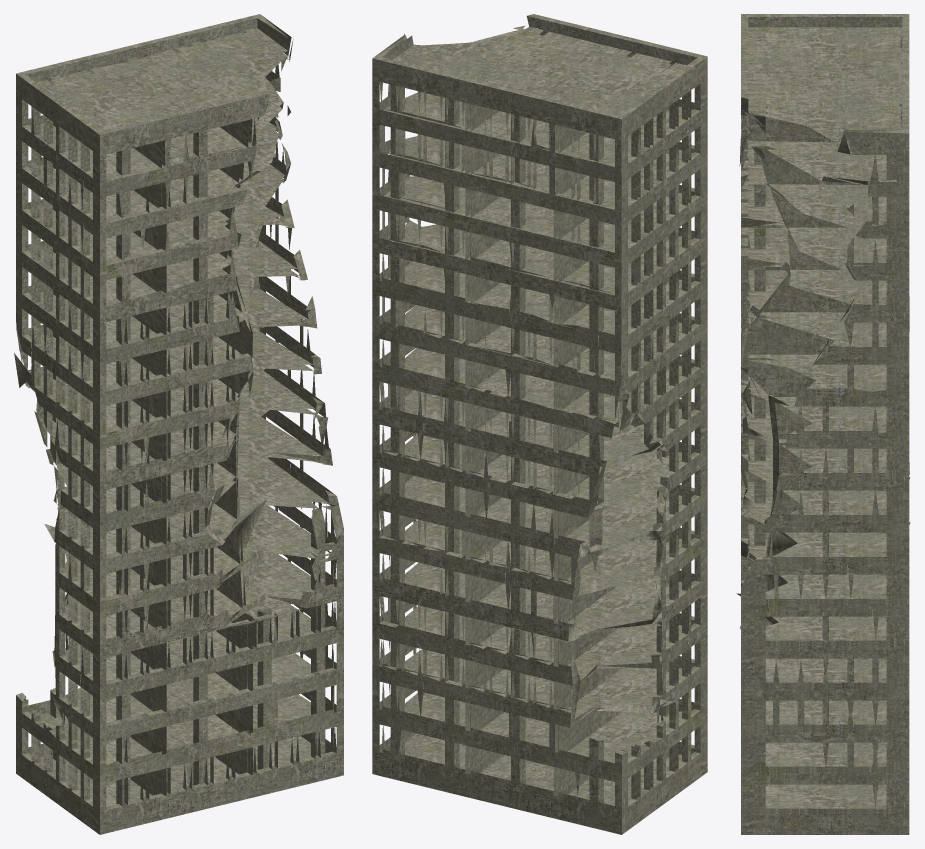
Rendered from yikinti_b.gltf.
3 renders of one model, left to right at view 1: azimuth 30°, elevation 25°; view 2: azimuth 150°, elevation 25°; view 3: azimuth 270°, elevation 25°, orthographic. The views are drawn at different scales.
Visible parts, largest first — view 1: yikinti_b; view 2: yikinti_b; view 3: yikinti_b.
Boxes of the visible parts, x1,y1,x2,y2 form: yikinti_b: (14, 14, 343, 834); yikinti_b: (372, 14, 707, 834); yikinti_b: (736, 14, 910, 834).
Size of what is drawn, in the model's own units: 19.38 by 51.61 by 11.6.
1 material, 1 textured.
